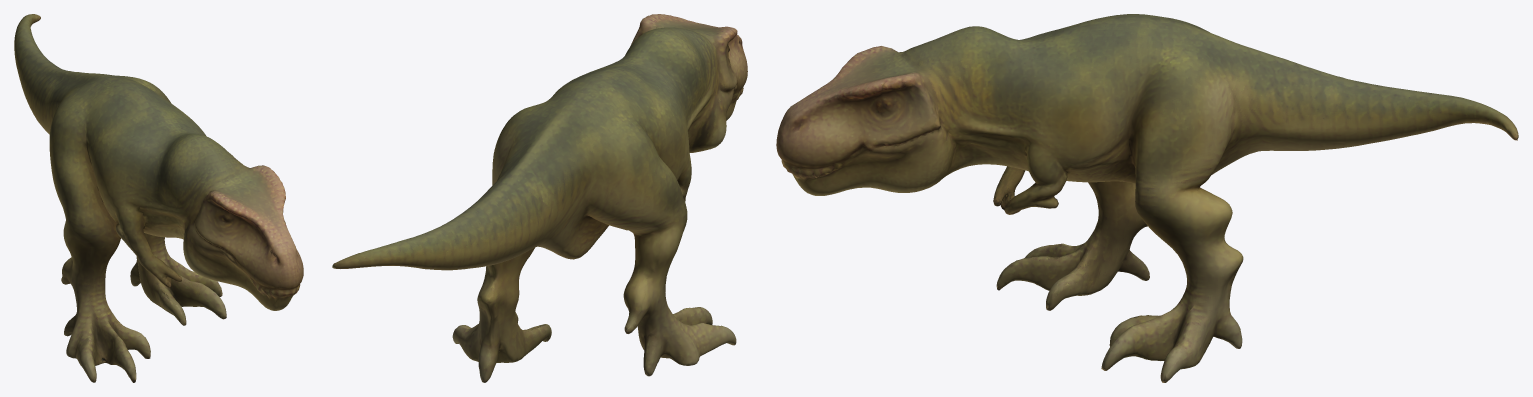
3 views of the same model, side by side, from view 1: azimuth 30°, elevation 25°; view 2: azimuth 150°, elevation 25°; view 3: azimuth 270°, elevation 25° (orthographic). The views are drawn at different scales.
Visible parts, largest first — view 1: world; view 2: world; view 3: world.
Part boxes in pixels (box(x1,y1,x2,y2)): world: box(14, 14, 303, 382); world: box(332, 14, 747, 382); world: box(776, 14, 1518, 382).
Size of the model in its own units: 4.45 by 5.52 by 12.3.
Materials: 1 (1 with a texture image).
